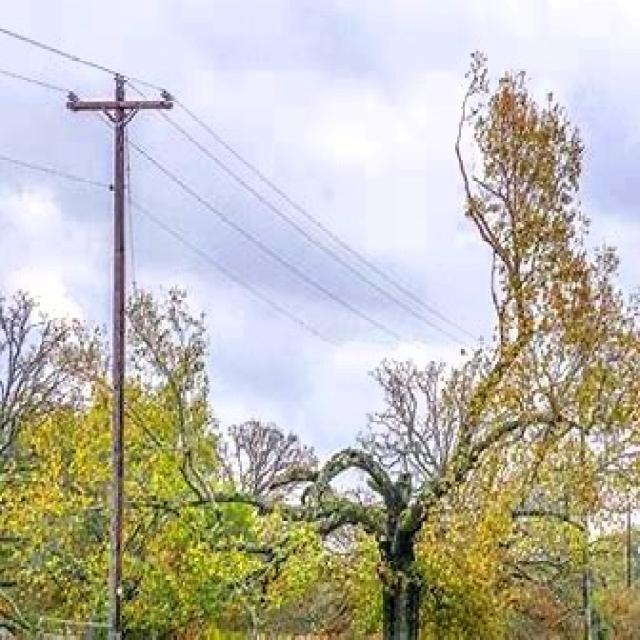utility poles: (49, 52, 170, 640)
